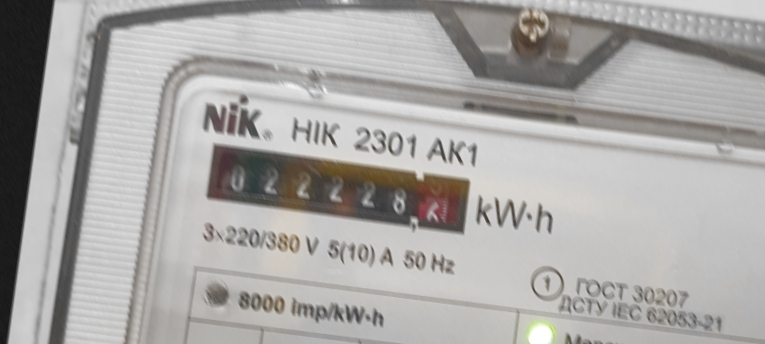0: (227, 162, 247, 193)
2: (260, 165, 282, 196), (358, 179, 379, 210), (294, 170, 314, 200), (326, 174, 346, 203)
5: (427, 176, 445, 198)
6: (423, 199, 442, 222)
8: (390, 186, 408, 216)
screen: (196, 132, 481, 244)
